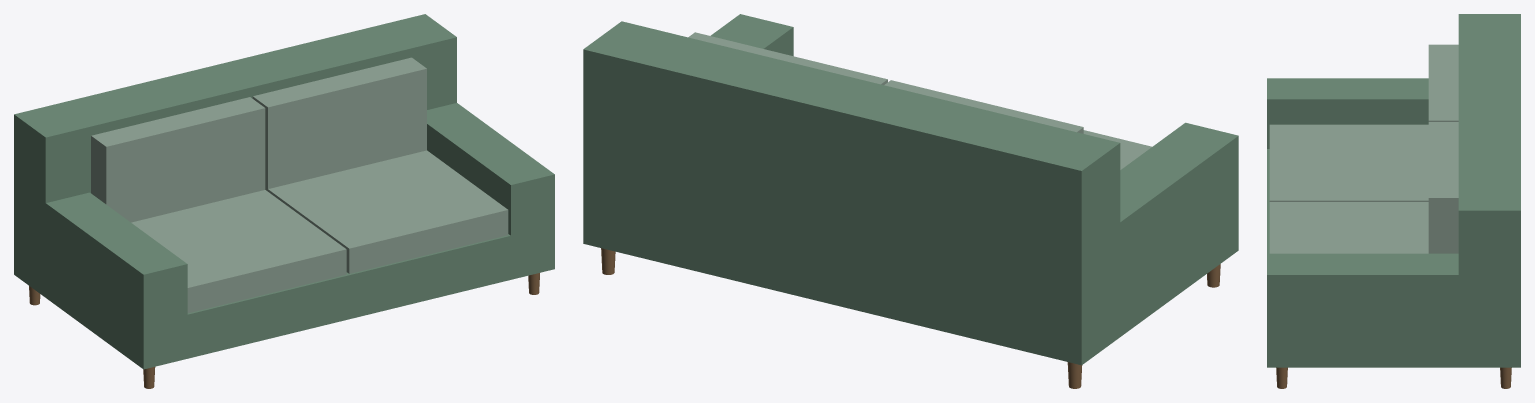
File: canape-noon.glb
3 renders of one model, left to right at view 1: azimuth 30°, elevation 25°; view 2: azimuth 150°, elevation 25°; view 3: azimuth 270°, elevation 25°, orthographic. The views are drawn at different scales.
Parts seen in each view (by area): view 1: produit; view 2: produit; view 3: produit.
Part boxes in pixels (x1,y1,x2,y2): produit: (14, 14, 554, 388); produit: (583, 14, 1238, 388); produit: (1267, 14, 1520, 388).
Size of the model in its own units: 1.87 by 0.81 by 1.02.
